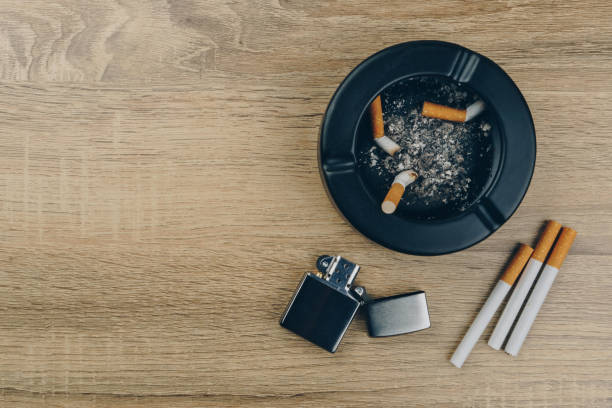cigarette: (448, 242, 534, 367), (503, 225, 578, 359), (486, 218, 561, 351), (366, 95, 403, 158), (420, 97, 489, 125), (380, 168, 420, 216)
